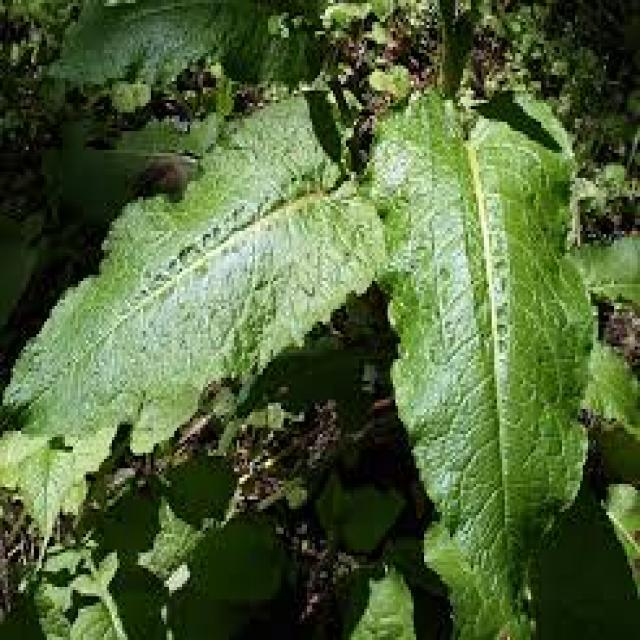organic waste: (0, 34, 627, 622)
